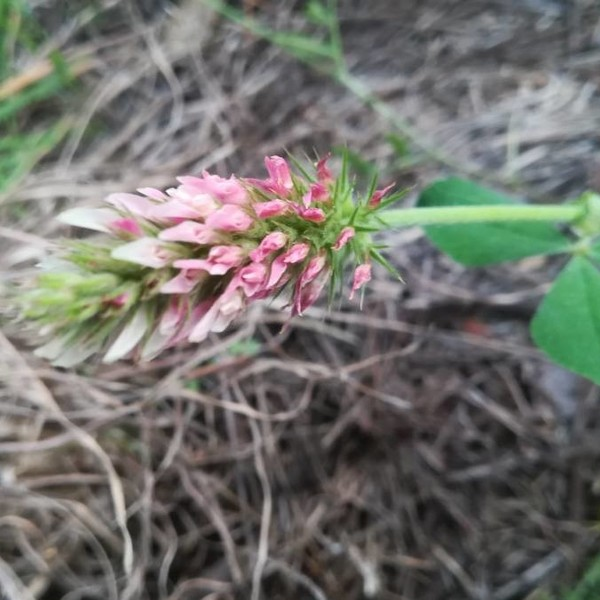obstacle: (36, 111, 582, 331)
